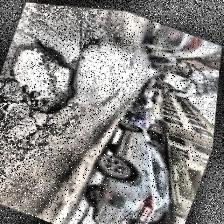pothole: (0, 28, 96, 126)
